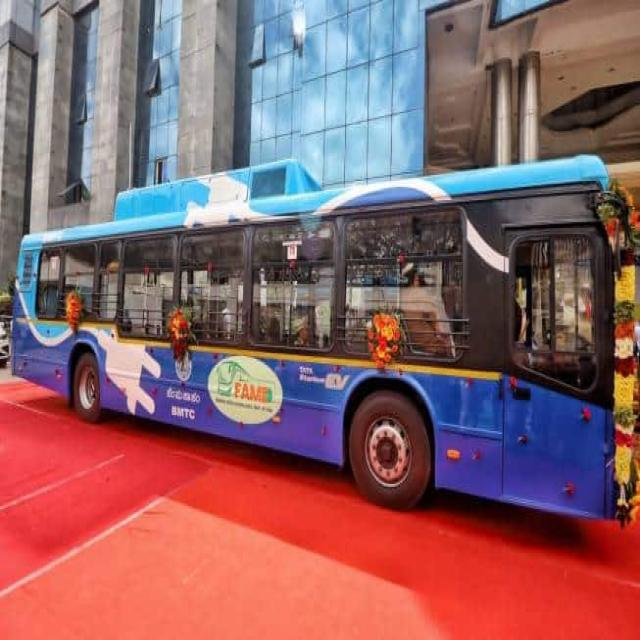bus: (9, 156, 640, 528)
